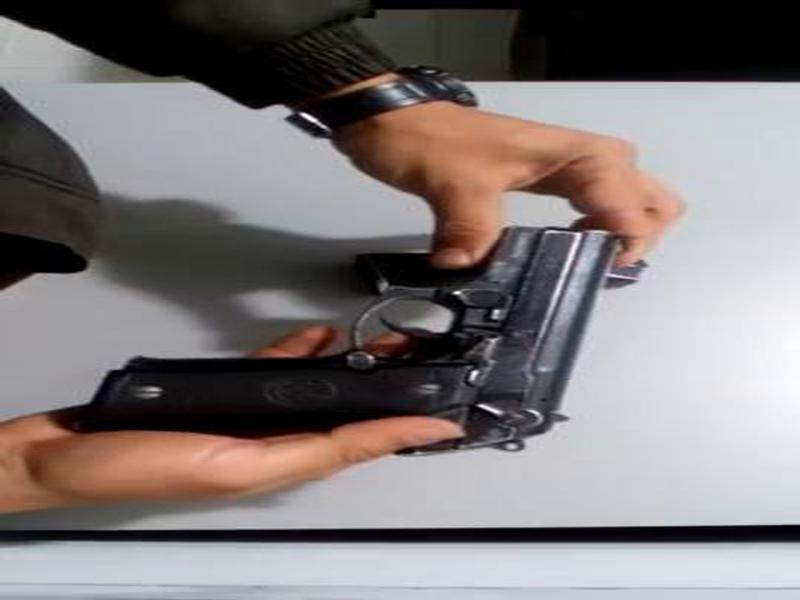Pistola: (76, 203, 630, 458)
